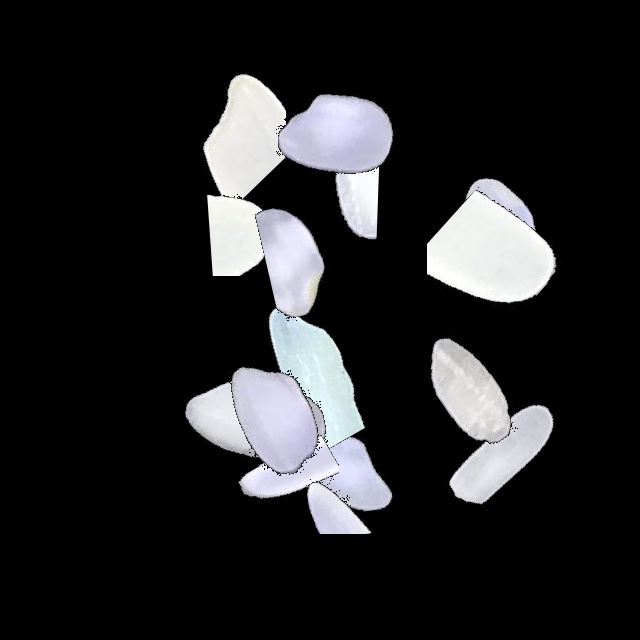Broken: (217, 238, 390, 488), (212, 177, 462, 321), (427, 144, 567, 394), (242, 43, 379, 293), (210, 358, 339, 608), (162, 4, 286, 254), (237, 445, 487, 534), (127, 192, 377, 276)
Full: (215, 348, 465, 598), (371, 107, 621, 357), (129, 296, 379, 546), (211, 7, 461, 257), (378, 329, 628, 579), (341, 265, 591, 515), (150, 294, 400, 544)
